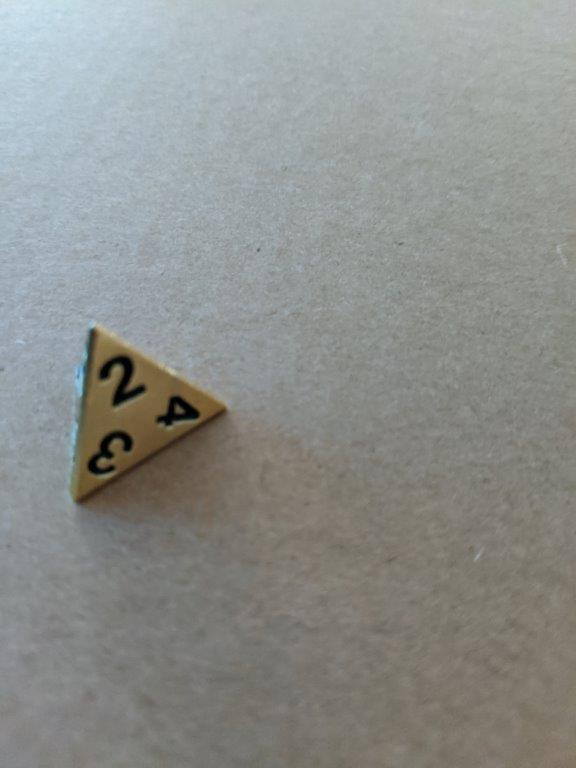d4-2: (63, 317, 236, 509)
